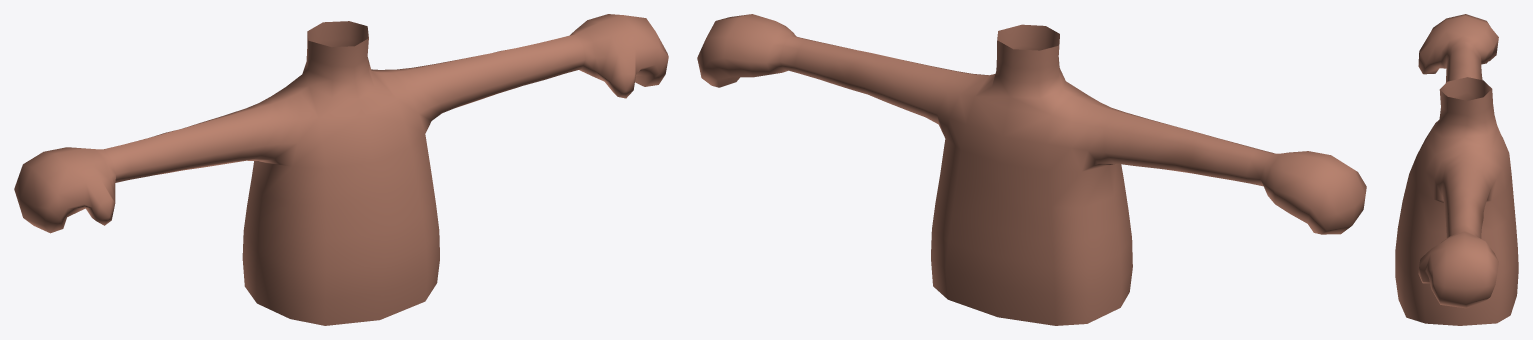
The model's file is Body_Brown_Top_1.fbx.
The picture shows the model from 3 angles, left to right: view 1: azimuth 30°, elevation 25°; view 2: azimuth 150°, elevation 25°; view 3: azimuth 270°, elevation 25°; orthographic projection. The views are drawn at different scales.
Parts seen in each view (by area): view 1: Body_Brown_Top_1; view 2: Body_Brown_Top_1; view 3: Body_Brown_Top_1.
Part boxes in pixels (box(x1,y1,x2,y2)): Body_Brown_Top_1: box(14, 14, 668, 325); Body_Brown_Top_1: box(697, 14, 1366, 325); Body_Brown_Top_1: box(1395, 14, 1518, 325).
Size of the model in its own units: 130 by 49.84 by 26.46.
